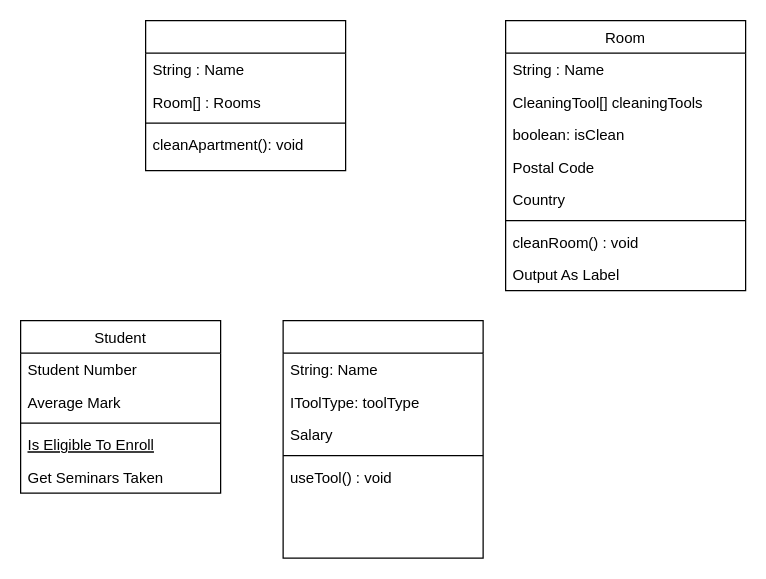
The diagram is 766 pixels wide and 579 high, and some of its shapes have lost their labels. The box of each missing label's shape, as (x1, y1, x2, y2) in pixels:
Apartament: (144, 19, 346, 171)
CleaningTool: (282, 319, 483, 558)
